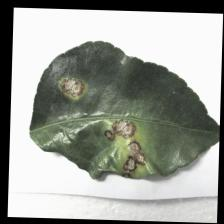canker: (57, 70, 152, 179)
